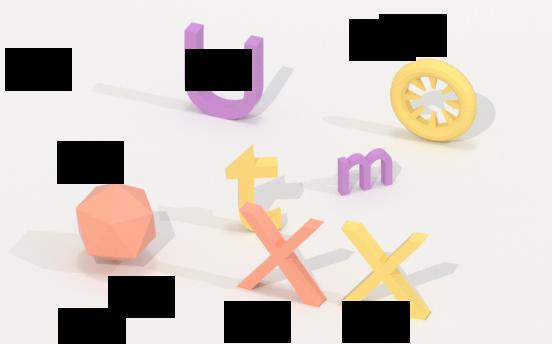dagiac: (73, 178, 159, 269)
m: (334, 148, 395, 196)
t: (221, 139, 285, 234)
tron: (391, 53, 478, 143)
u: (179, 18, 268, 126)
x: (236, 195, 326, 308), (340, 219, 434, 326)
